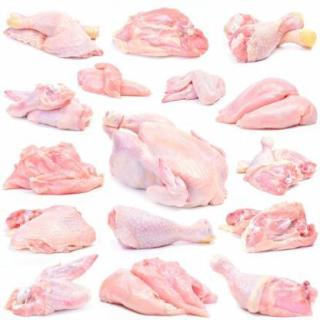Ayam: (105, 112, 226, 207), (103, 261, 219, 319), (213, 258, 318, 318), (8, 256, 96, 317), (6, 144, 105, 196), (219, 79, 316, 130), (224, 12, 318, 64), (5, 12, 106, 60), (115, 9, 210, 60), (227, 203, 318, 254), (106, 208, 215, 250), (236, 139, 316, 196), (6, 84, 96, 133), (8, 206, 95, 255), (78, 65, 152, 102), (165, 70, 227, 107)
